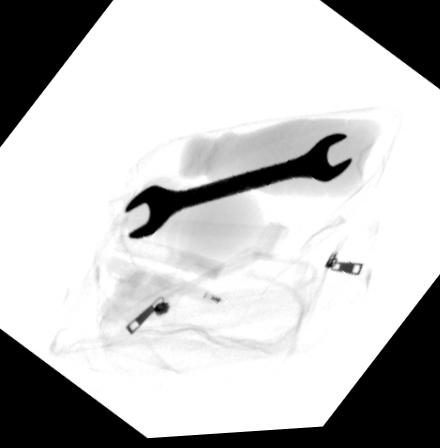Wrench: (118, 135, 355, 239)
